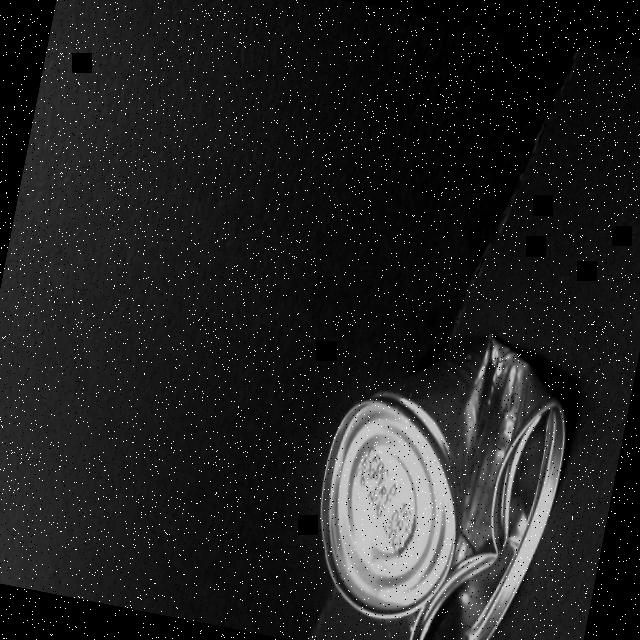can: (286, 302, 587, 640)
